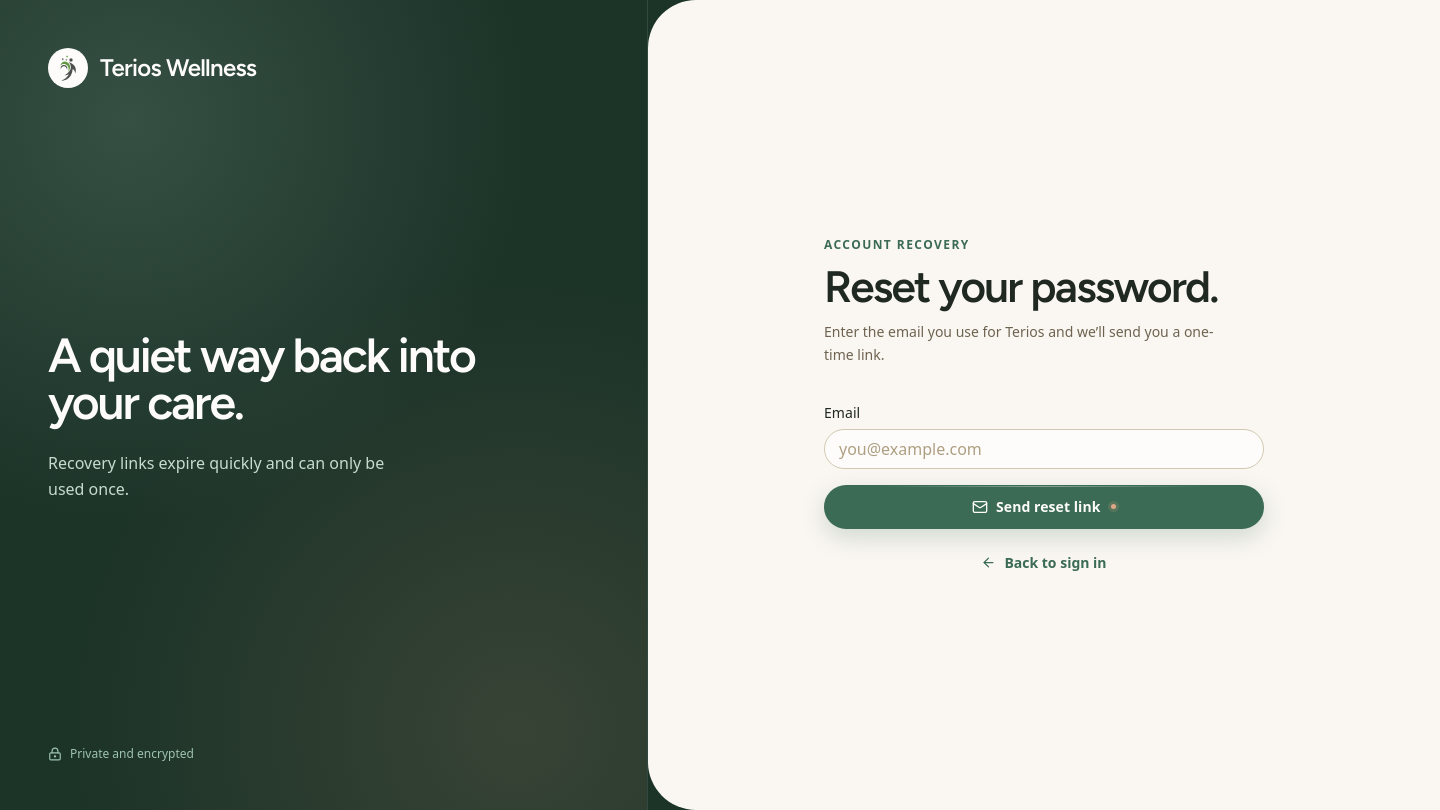
Test: client password recovery request › catches a malformed address before any round trip
Step 1. Type "ama@" into the field labelled "Email" → (1044, 449), box [824,429,1264,469]
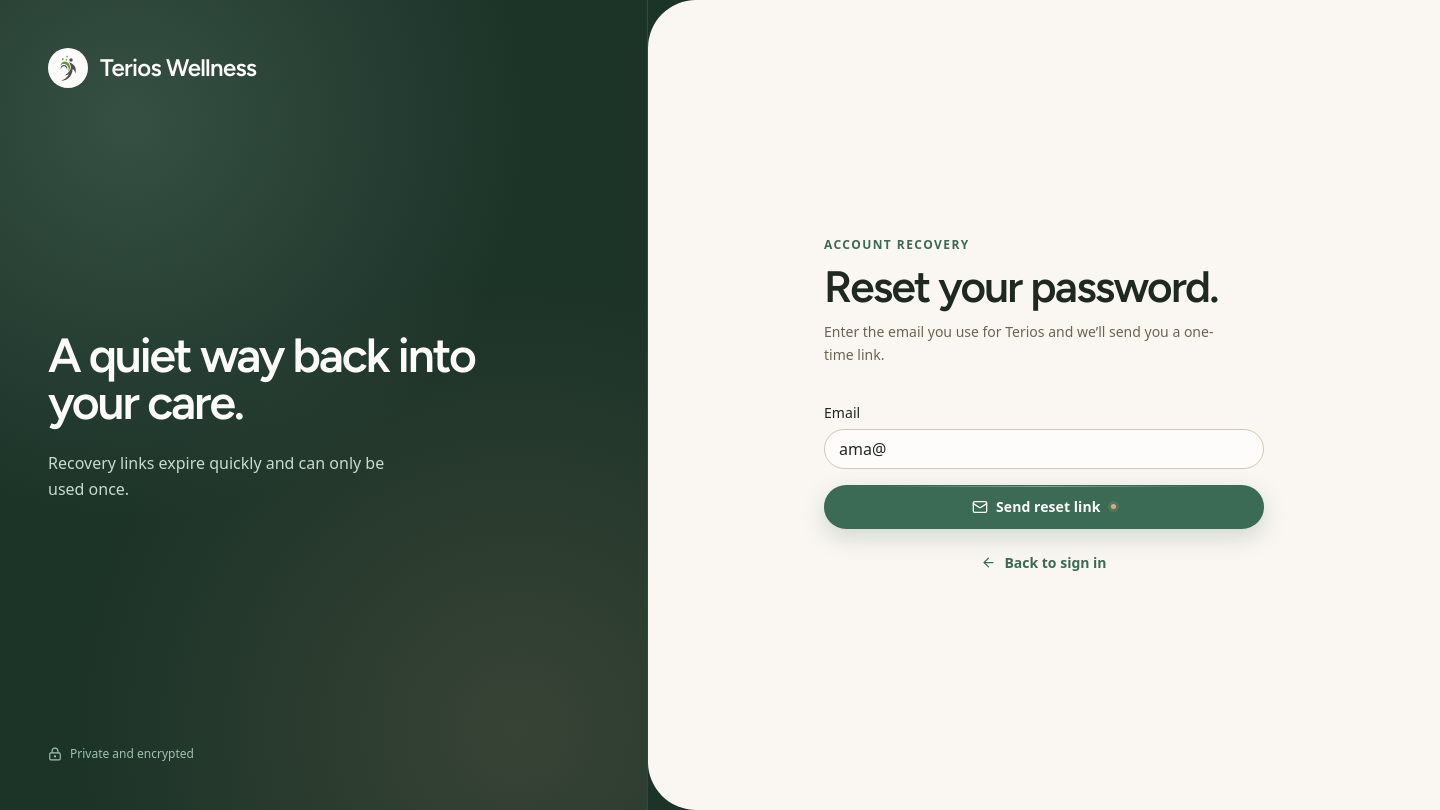
Step 2. Click the button "Send reset link" → (1044, 507), box [824,485,1264,529]
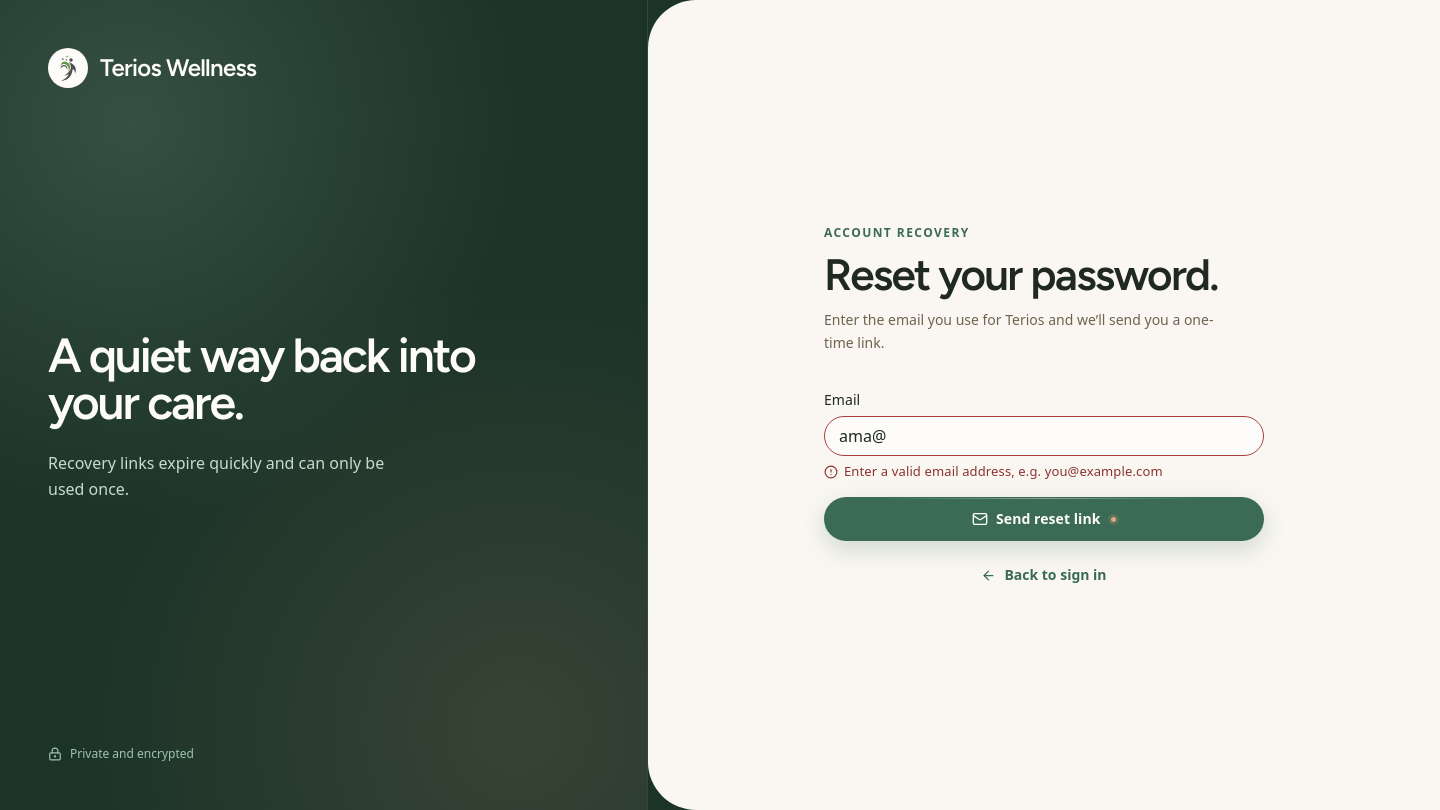
Now the message shows "valid email address", box [844,462,1163,480]
